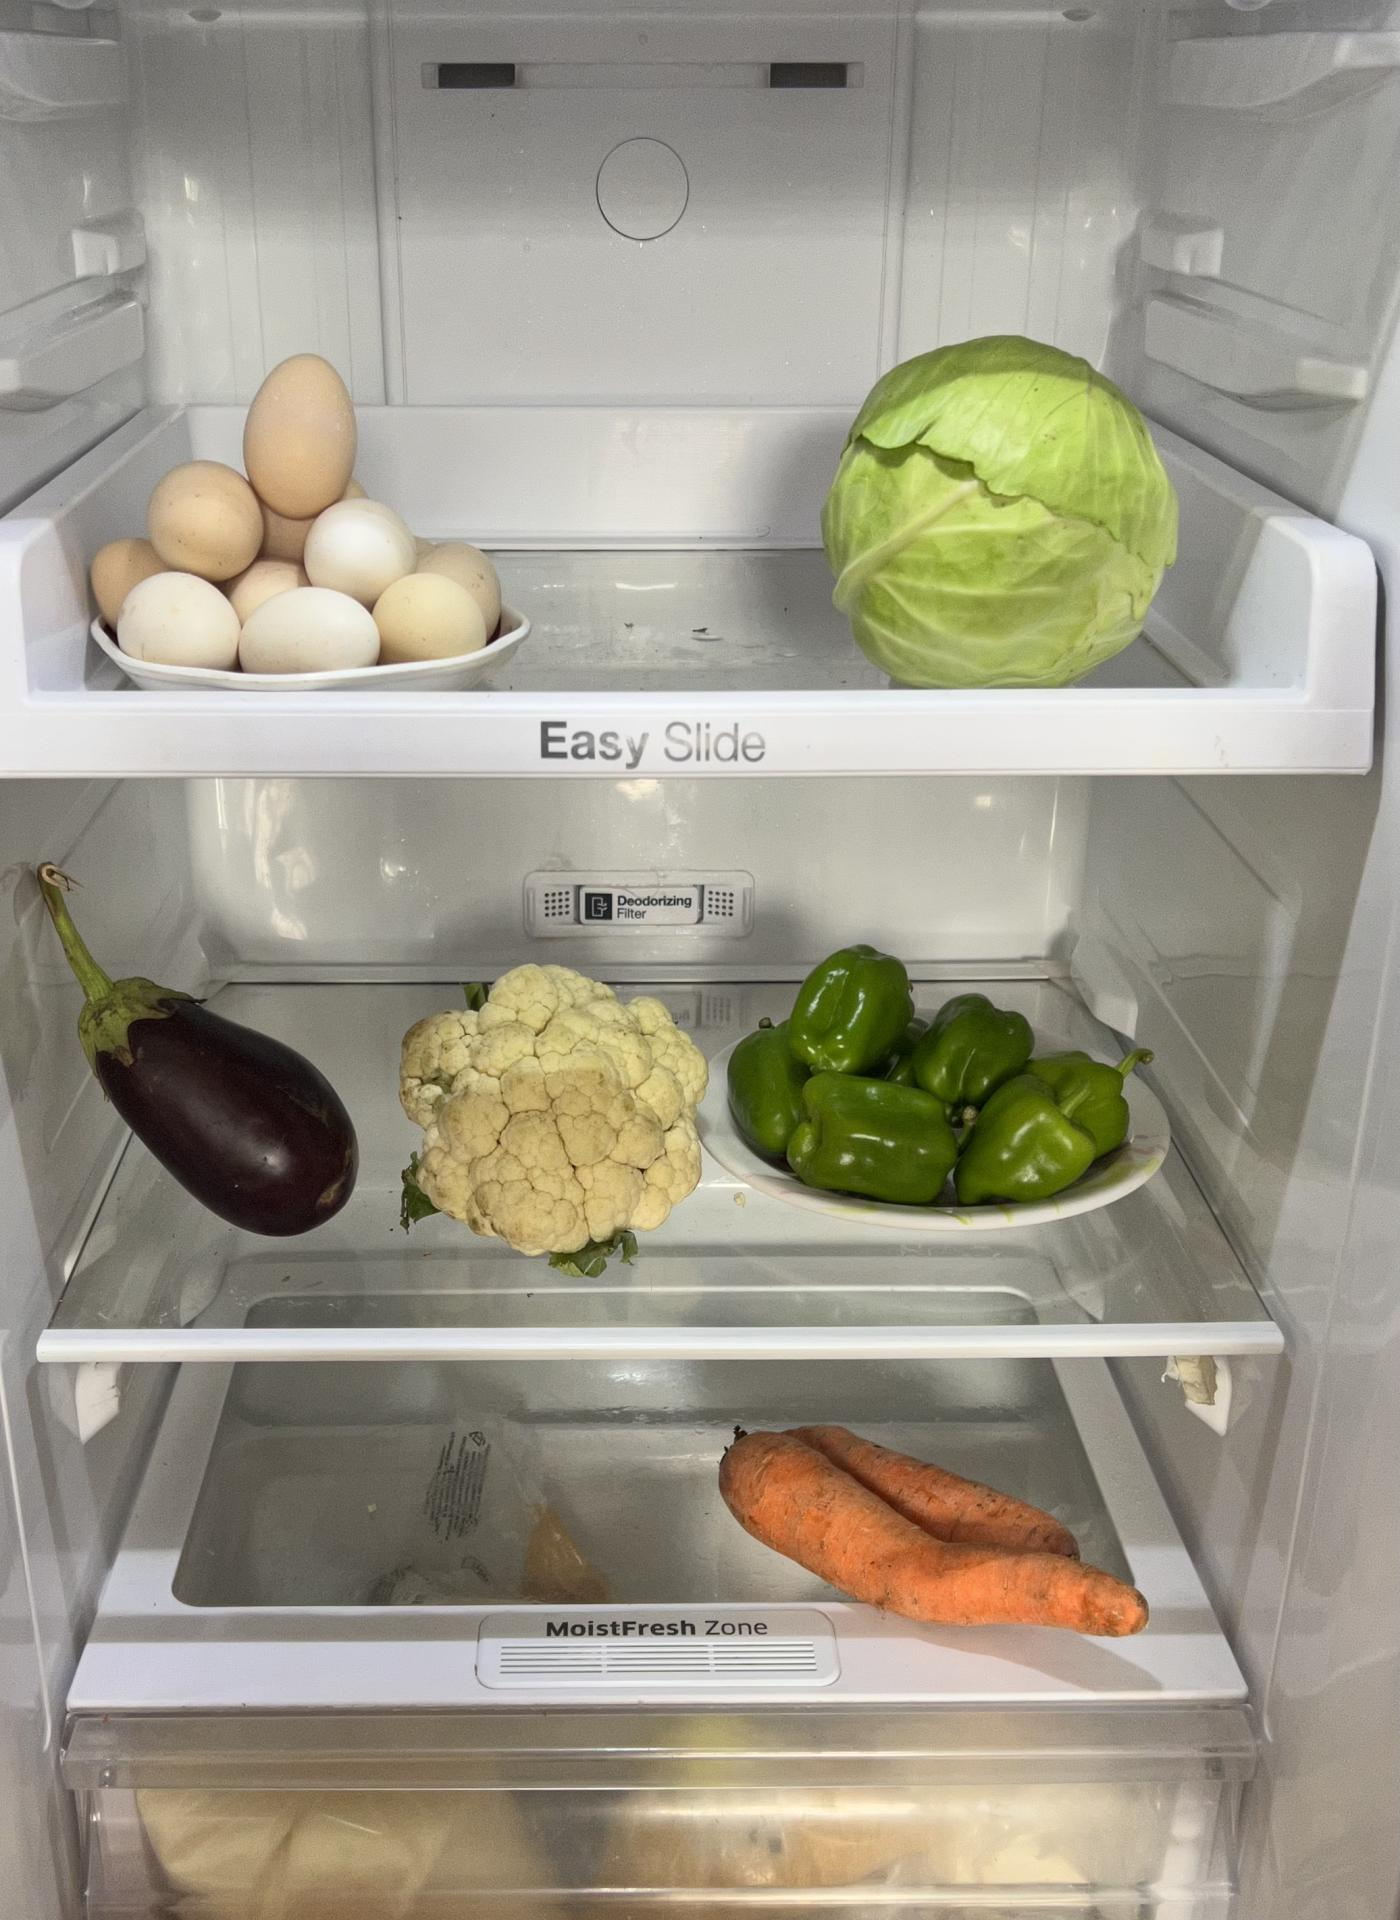cabbage: (816, 335, 1191, 675)
egg: (67, 391, 541, 677)
